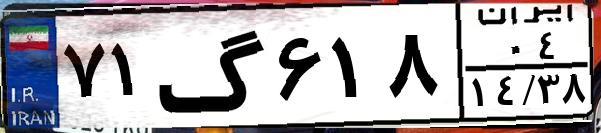0: (508, 27, 537, 80)
1: (330, 28, 385, 110), (110, 28, 156, 98), (470, 70, 495, 125)
3: (535, 70, 560, 125)
4: (537, 27, 568, 80), (495, 70, 520, 125)
6: (270, 28, 330, 110)
7: (57, 26, 110, 100)
8: (385, 28, 445, 110), (560, 70, 590, 125)
گ: (156, 12, 270, 120)
